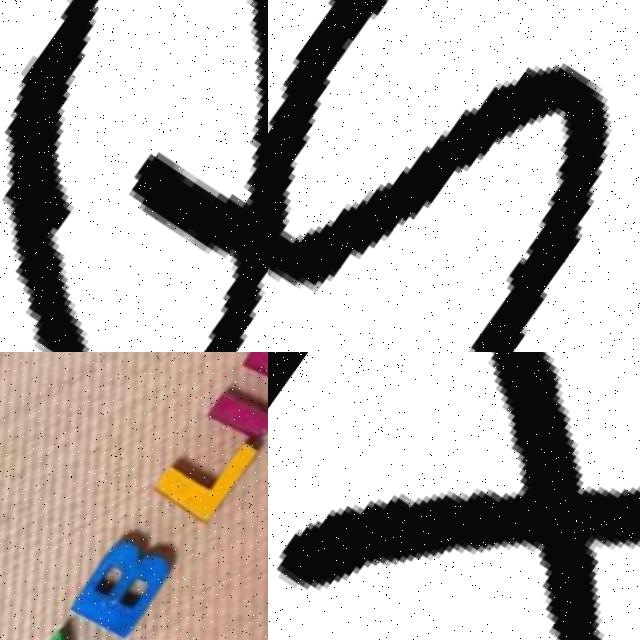B: (68, 524, 183, 640)
L: (151, 413, 263, 534)
Q: (0, 0, 268, 352)
S: (268, 0, 640, 352)
U: (208, 352, 268, 454)
X: (268, 352, 640, 640)
